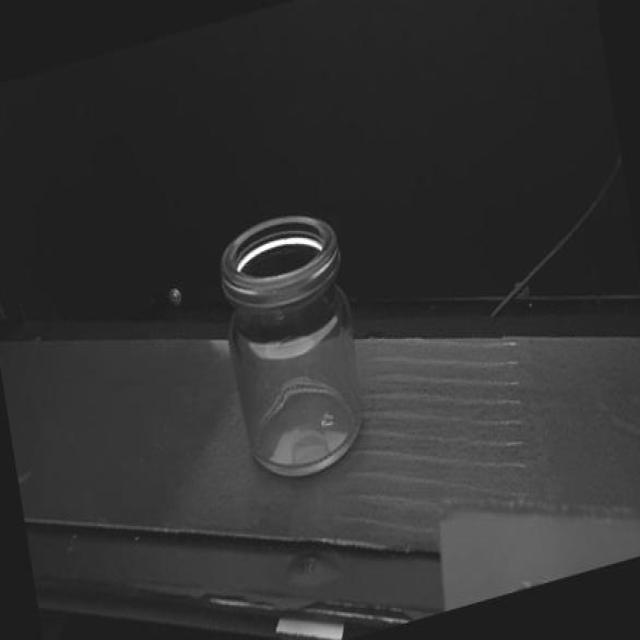defect: (272, 334, 294, 348)
glass: (210, 198, 375, 496)
